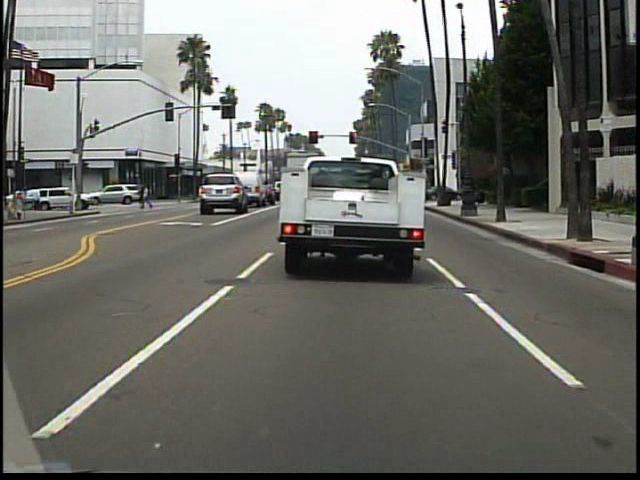person: (31, 185, 44, 213)
